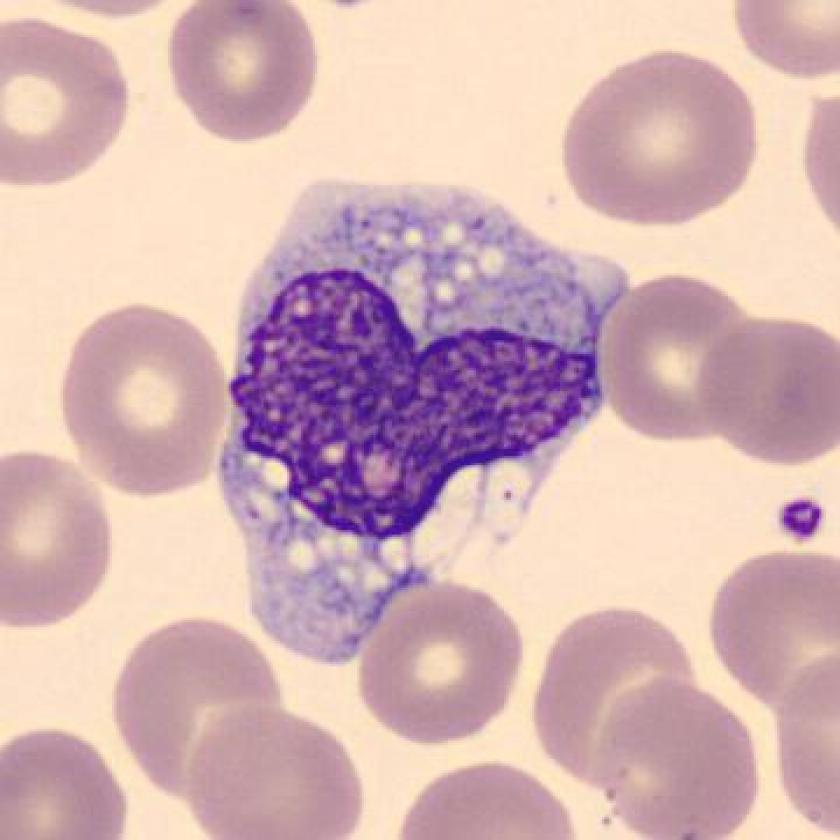monocyte: (197, 149, 647, 681)
